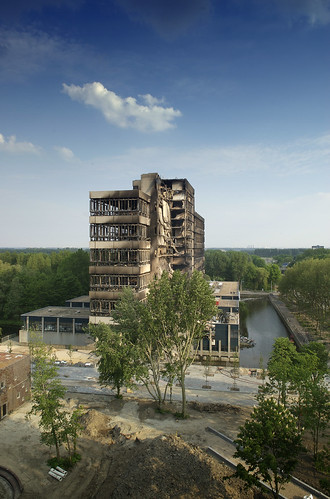building: (39, 188, 243, 351)
sky: (1, 1, 326, 237)
tree: (79, 274, 216, 410), (26, 349, 100, 466), (243, 412, 297, 499), (263, 336, 330, 402)
vegetation: (206, 241, 330, 294), (1, 248, 82, 319)
